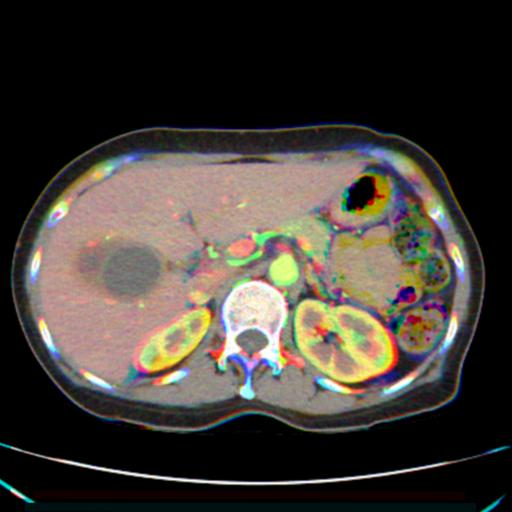Abscess: (78, 238, 160, 299)
